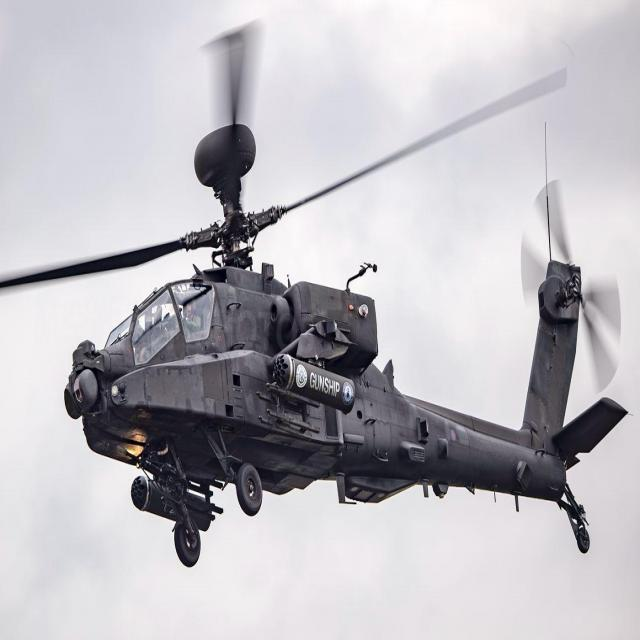MIL_HELO: (1, 13, 639, 560)
